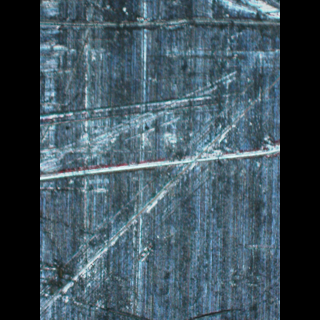d: (40, 136, 279, 198), (39, 224, 155, 320), (40, 89, 218, 128), (41, 14, 279, 43)
